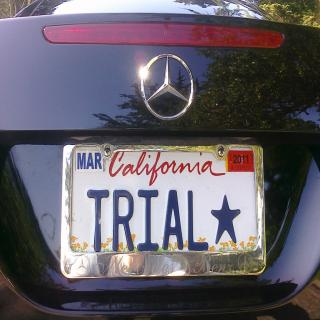license: (62, 136, 268, 279)
